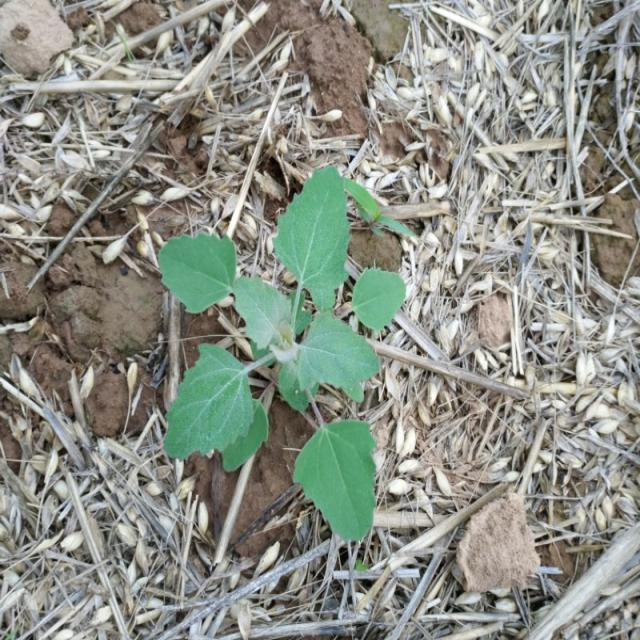goosefoots: (149, 161, 407, 538)
